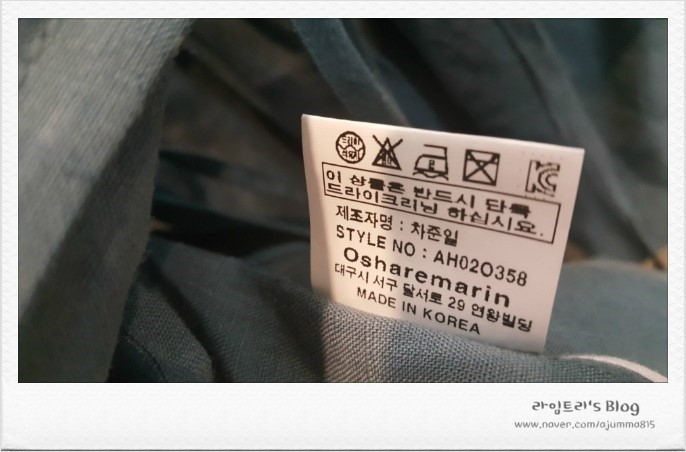KR_dry_clean_petroleum: (334, 129, 369, 165)
KR_no_chlorine_bleach: (371, 134, 405, 170)
